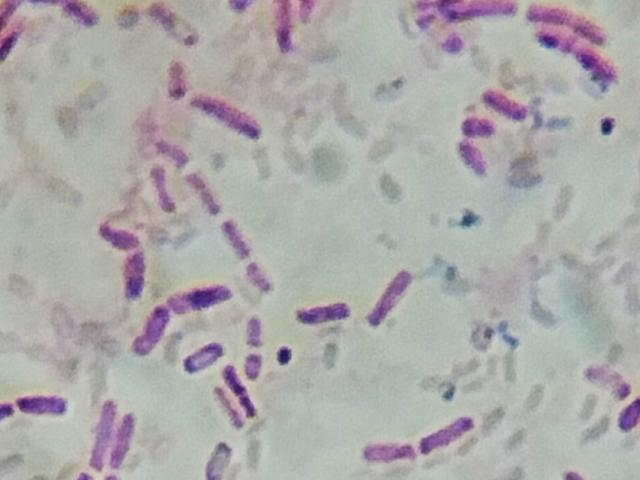E. coli: (538, 29, 618, 85), (191, 90, 264, 134), (533, 0, 608, 35), (372, 272, 411, 327), (419, 413, 472, 453), (19, 382, 71, 419), (88, 397, 115, 466), (223, 365, 251, 426), (135, 305, 166, 358), (171, 285, 226, 314), (286, 299, 352, 323), (482, 85, 525, 120), (427, 0, 521, 16), (362, 437, 415, 465), (239, 316, 262, 377), (576, 365, 626, 393), (113, 412, 136, 472), (271, 0, 299, 49), (189, 166, 220, 210), (183, 343, 223, 377), (53, 0, 97, 30), (145, 165, 172, 211), (208, 387, 236, 431), (99, 216, 137, 248), (156, 56, 188, 94), (125, 249, 153, 289), (219, 216, 243, 259), (461, 140, 495, 170), (620, 394, 640, 445), (0, 29, 23, 65), (0, 0, 36, 22), (459, 115, 494, 135), (0, 393, 16, 425), (248, 263, 263, 293)
